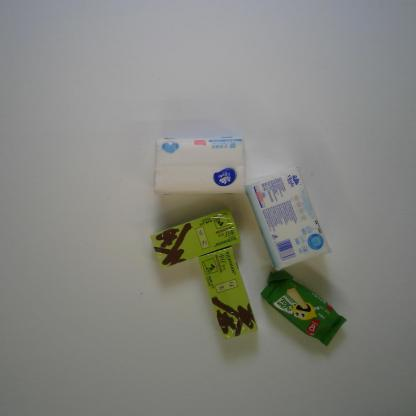Dessert: (260, 270, 348, 348)
Instant Drink: (150, 208, 242, 271), (198, 246, 258, 341)
Tissue: (245, 164, 332, 272), (153, 135, 247, 197)
